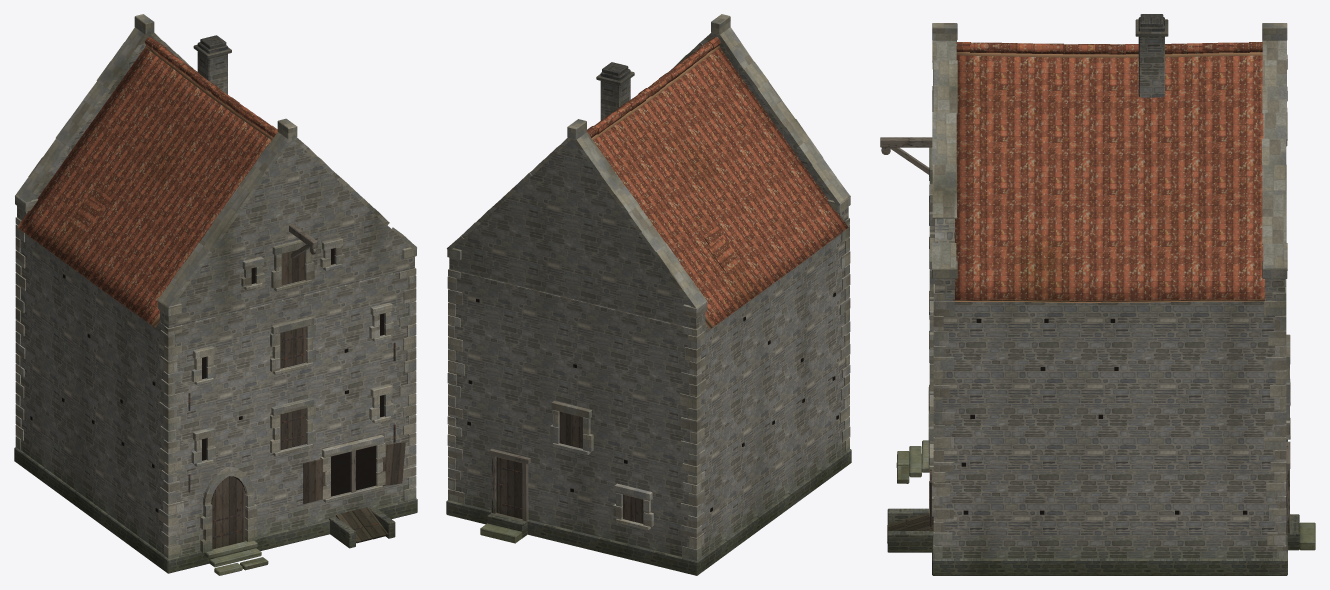
File: merchant_stone.glb
3 renders of one model, left to right at view 1: azimuth 30°, elevation 25°; view 2: azimuth 150°, elevation 25°; view 3: azimuth 270°, elevation 25°, orthographic. The views are drawn at different scales.
Visible parts, largest first — view 1: MerchantStoneLimestoneRubble, MerchantStoneClayTile, MerchantStoneLimestoneDressed, MerchantStoneOakPlank, MerchantStoneLimestonePlinth, MerchantStoneRecess, MerchantStoneOakWeathered, MerchantStoneWroughtIron; view 2: MerchantStoneLimestoneRubble, MerchantStoneClayTile, MerchantStoneLimestoneDressed, MerchantStoneLimestonePlinth, MerchantStoneOakPlank, MerchantStoneOakWeathered; view 3: MerchantStoneLimestoneRubble, MerchantStoneClayTile, MerchantStoneLimestoneDressed, MerchantStoneLimestonePlinth, MerchantStoneOakWeathered, MerchantStoneOakPlank.
Part boxes in pixels (x1,y1,x2,y2): MerchantStoneLimestoneRubble: (17, 34, 414, 555); MerchantStoneClayTile: (17, 37, 277, 327); MerchantStoneLimestoneDressed: (15, 14, 416, 575); MerchantStoneOakPlank: (211, 250, 405, 549); MerchantStoneLimestonePlinth: (14, 447, 417, 573); MerchantStoneRecess: (30, 248, 384, 512); MerchantStoneOakWeathered: (289, 224, 355, 492); MerchantStoneWroughtIron: (188, 335, 395, 538); MerchantStoneLimestoneRubble: (449, 34, 848, 556); MerchantStoneClayTile: (587, 37, 848, 328); MerchantStoneLimestoneDressed: (447, 14, 850, 560); MerchantStoneLimestonePlinth: (446, 449, 851, 575); MerchantStoneOakPlank: (497, 411, 643, 523); MerchantStoneOakWeathered: (489, 448, 530, 522); MerchantStoneLimestoneRubble: (935, 14, 1284, 558); MerchantStoneClayTile: (955, 42, 1264, 302); MerchantStoneLimestoneDressed: (896, 19, 1315, 558); MerchantStoneLimestonePlinth: (887, 439, 1299, 575); MerchantStoneOakWeathered: (880, 137, 1290, 537); MerchantStoneOakPlank: (887, 469, 933, 543).
Size of the model in its own units: 9.64 by 15.04 by 11.95.
Materials: 8 (8 with a texture image).
